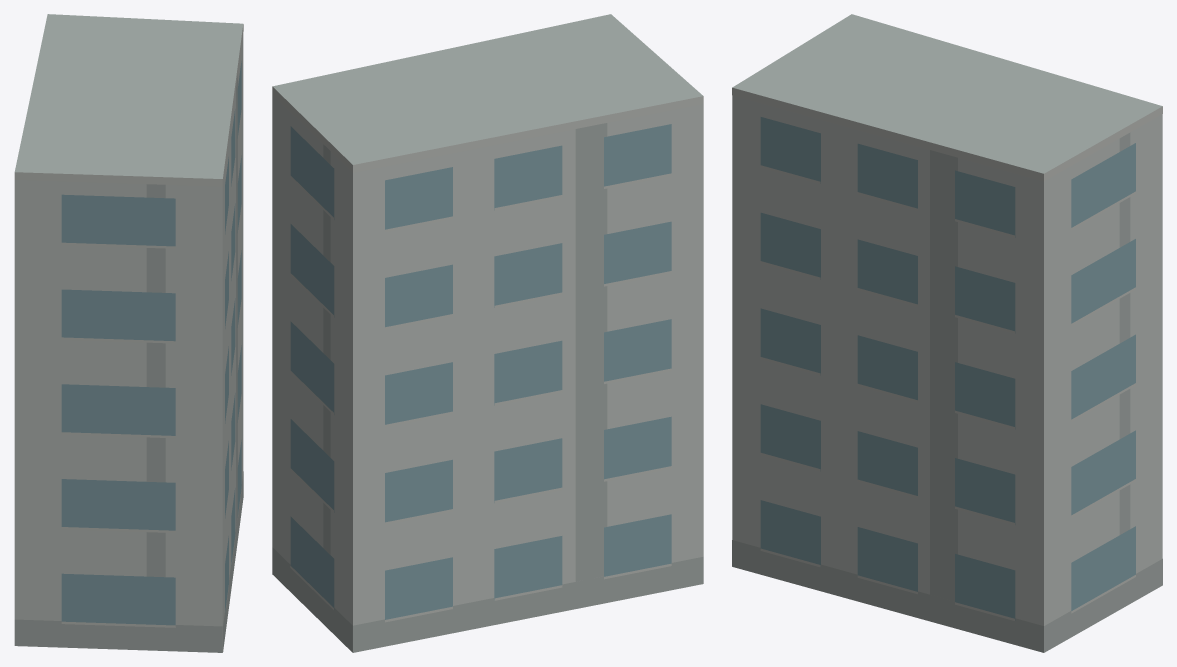
File: residential-d84abd33-9819-4f5b-9669-d05b42534fd8.glb
3 renders of one model, left to right at view 1: azimuth 30°, elevation 25°; view 2: azimuth 150°, elevation 25°; view 3: azimuth 270°, elevation 25°, orthographic. The views are drawn at different scales.
Visible parts, largest first — view 1: residential-d84abd33-9819-4f5b-9669-d05b42534fd8.tmp; view 2: residential-d84abd33-9819-4f5b-9669-d05b42534fd8.tmp; view 3: residential-d84abd33-9819-4f5b-9669-d05b42534fd8.tmp.
Boxes of the visible parts, <box> form: residential-d84abd33-9819-4f5b-9669-d05b42534fd8.tmp: <box>14,14,243,652</box>; residential-d84abd33-9819-4f5b-9669-d05b42534fd8.tmp: <box>272,14,703,652</box>; residential-d84abd33-9819-4f5b-9669-d05b42534fd8.tmp: <box>732,14,1162,652</box>.
Size of the model in its own units: 10.91 by 15.25 by 12.43.
